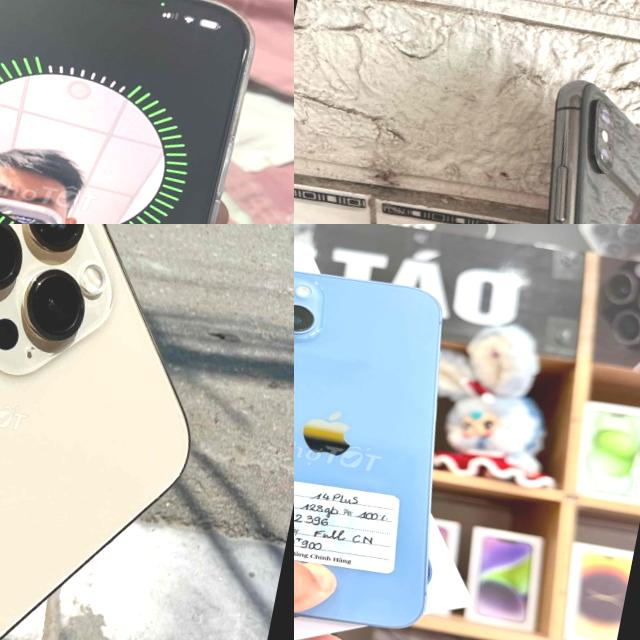gen_12_13: (0, 224, 243, 640), (0, 0, 267, 224)
gen_14: (294, 249, 493, 640)
gen_x_xs: (452, 71, 640, 224)
